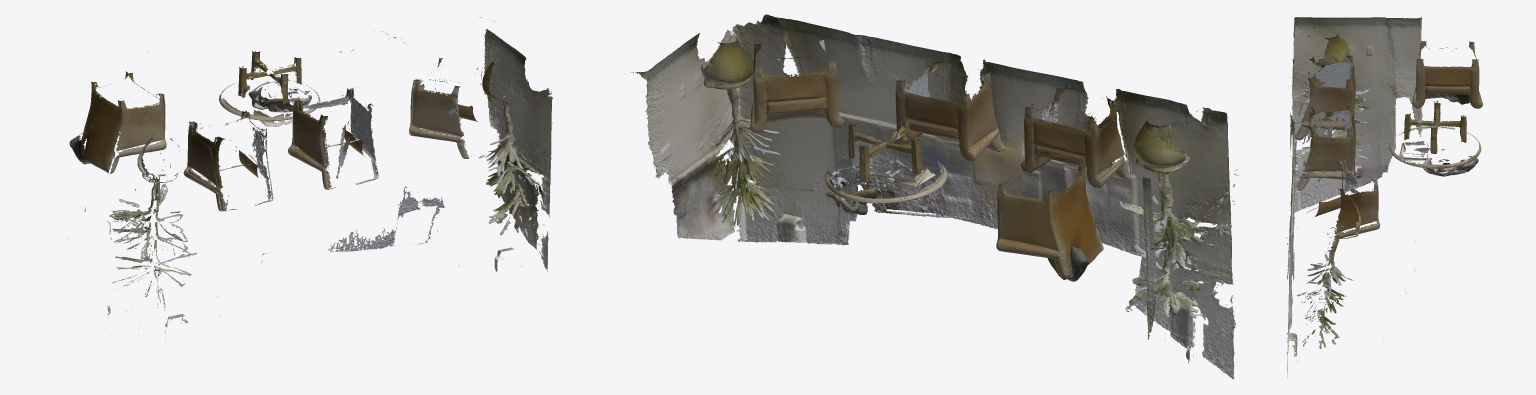
Rendered from PREEXISTING-PRIOR-RGB.glb.
The picture shows the model from 3 angles, left to right: view 1: azimuth 30°, elevation 25°; view 2: azimuth 150°, elevation 25°; view 3: azimuth 270°, elevation 25°; orthographic projection. The views are drawn at different scales.
Parts seen in each view (by area): view 1: world; view 2: world; view 3: world.
Part boxes in pixels (x1,y1,x2,y2): world: (64, 17, 580, 365); world: (624, 14, 1238, 379); world: (1284, 16, 1513, 377).
Size of the model in its own units: 5.8 by 2.62 by 2.95.
